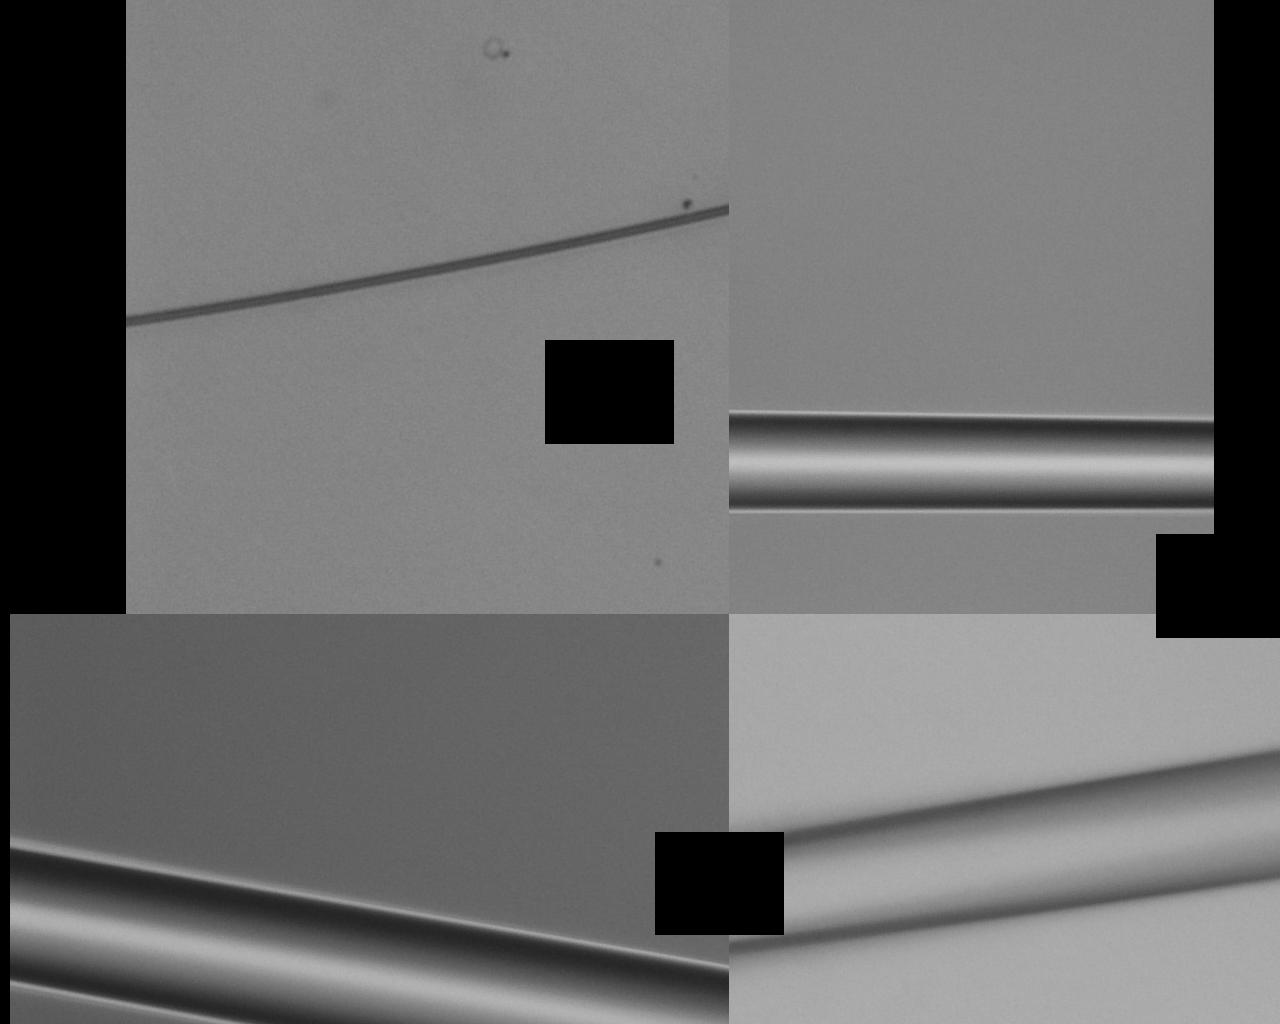fiber: (9, 847, 729, 1024), (729, 753, 1280, 953), (125, 203, 729, 330), (729, 414, 1214, 512)
